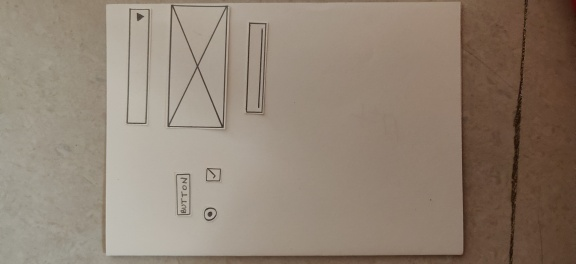button: (172, 171, 194, 217)
checkbox: (202, 166, 224, 184)
dropdown: (123, 7, 152, 126)
img: (164, 4, 230, 131)
radio: (201, 205, 219, 223)
text: (244, 20, 269, 117)
